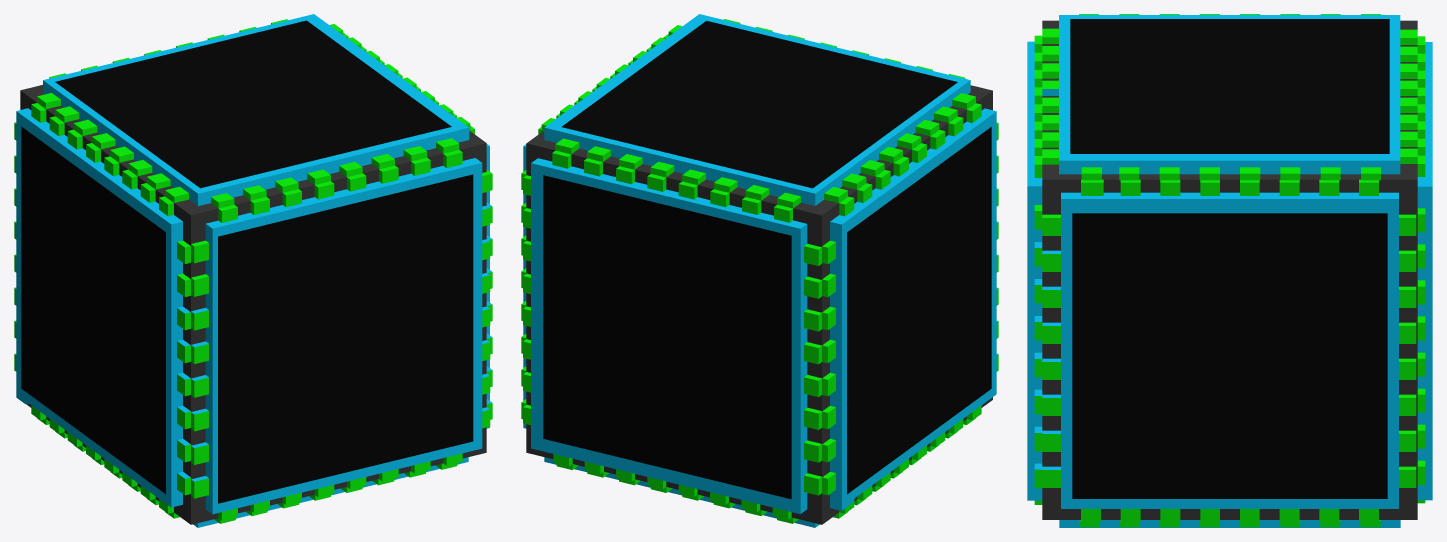
The model's file is УТБ.obj.
The picture shows the model from 3 angles, left to right: view 1: azimuth 30°, elevation 25°; view 2: azimuth 150°, elevation 25°; view 3: azimuth 270°, elevation 25°; orthographic projection. The views are drawn at different scales.
Parts seen in each view (by area): view 1: Cube; view 2: Cube; view 3: Cube.
Part boxes in pixels (box(x1,y1,x2,y2)): Cube: box(14, 14, 492, 527); Cube: box(521, 14, 998, 527); Cube: box(1027, 14, 1432, 527).
Size of the model in its own units: 1.08 by 1.08 by 1.08.
